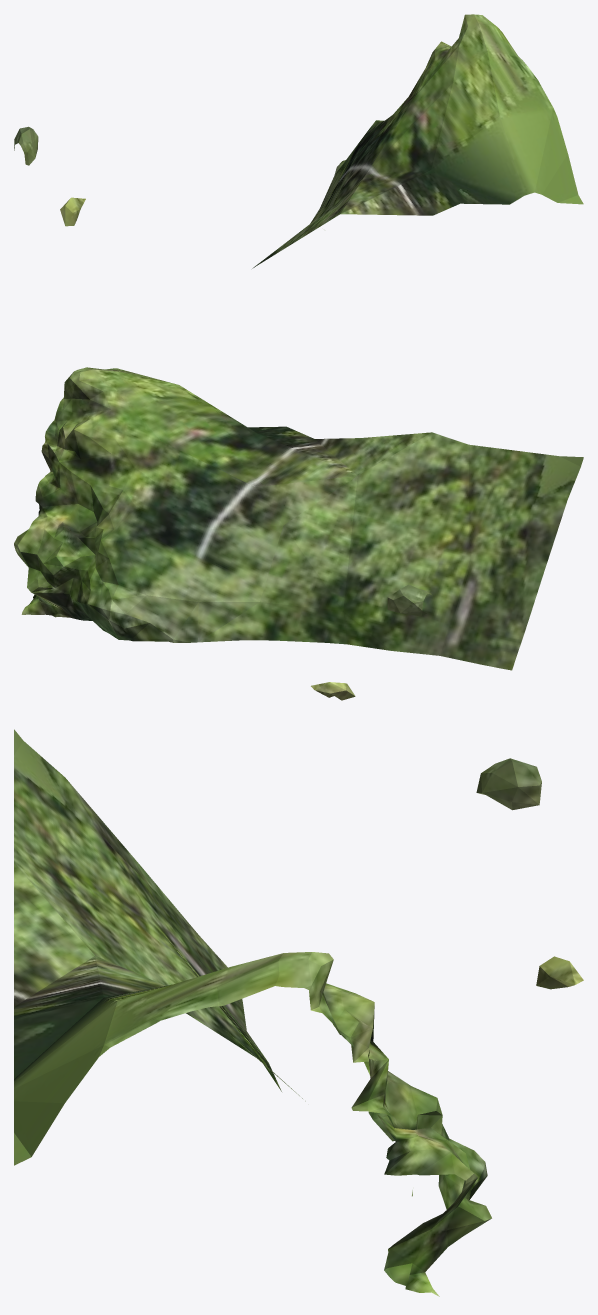
3 views of the same model, one above another, from view 1: azimuth 30°, elevation 25°; view 2: azimuth 150°, elevation 25°; view 3: azimuth 270°, elevation 25° (orthographic). The views are drawn at different scales.
Bounding box in the file's own units: 26.11 × 12.71 × 19.53.
2 materials, 2 textured.
